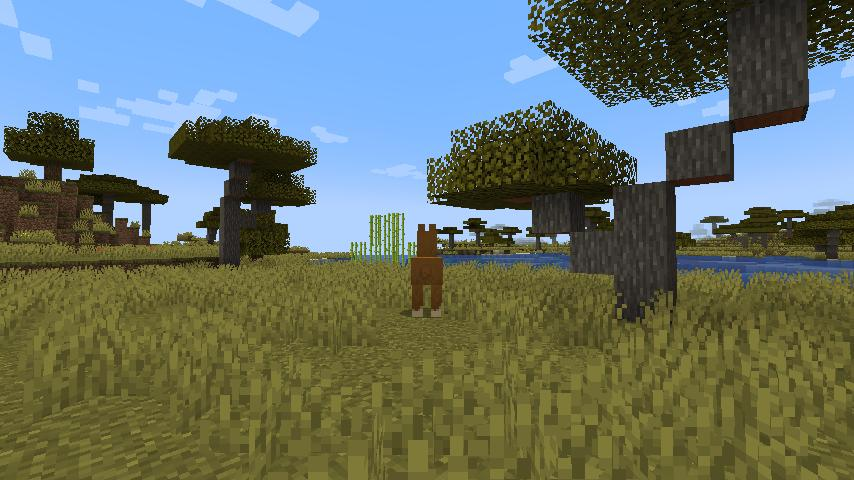llama: (404, 219, 451, 324)
